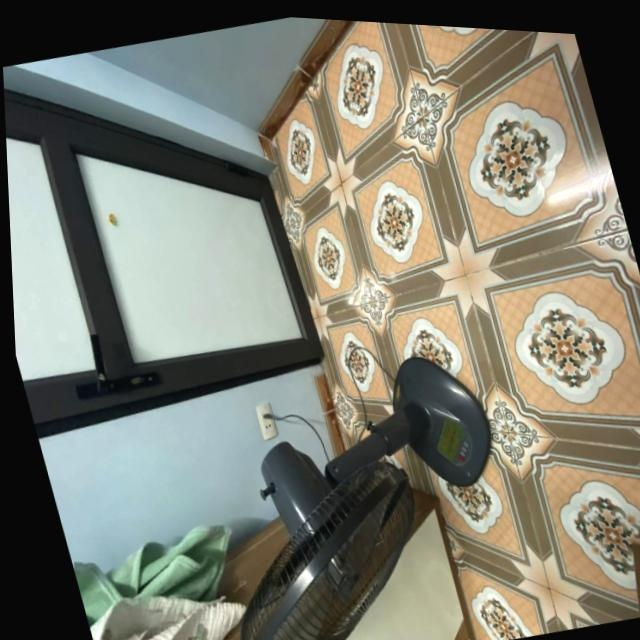outlet: (253, 400, 279, 441)
